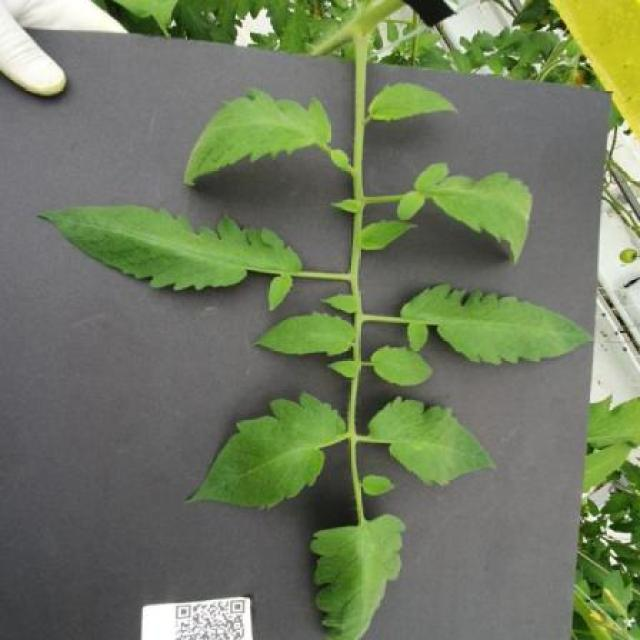Healthy: (36, 207, 303, 312), (183, 389, 347, 511), (399, 283, 594, 366), (184, 86, 334, 187), (397, 162, 532, 267), (308, 514, 406, 640), (366, 396, 497, 487), (251, 311, 356, 356), (369, 82, 460, 125), (370, 345, 434, 386)
